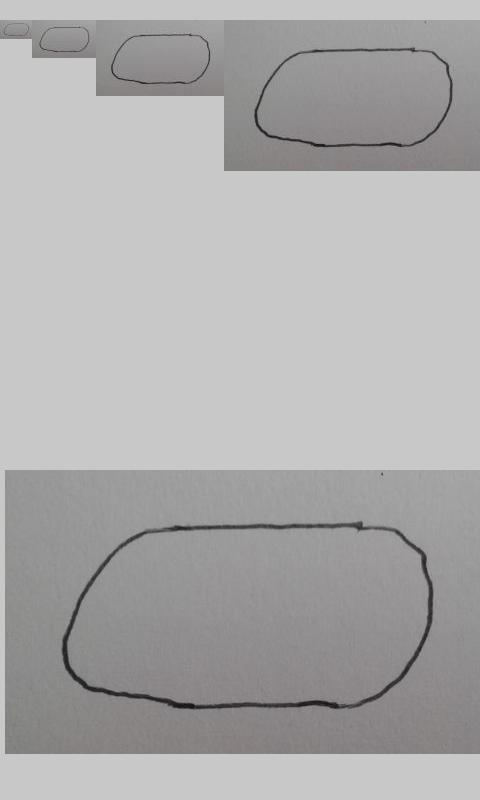chip: (62, 521, 435, 710), (255, 47, 454, 149), (111, 33, 211, 85), (39, 26, 90, 53), (3, 23, 30, 37)
